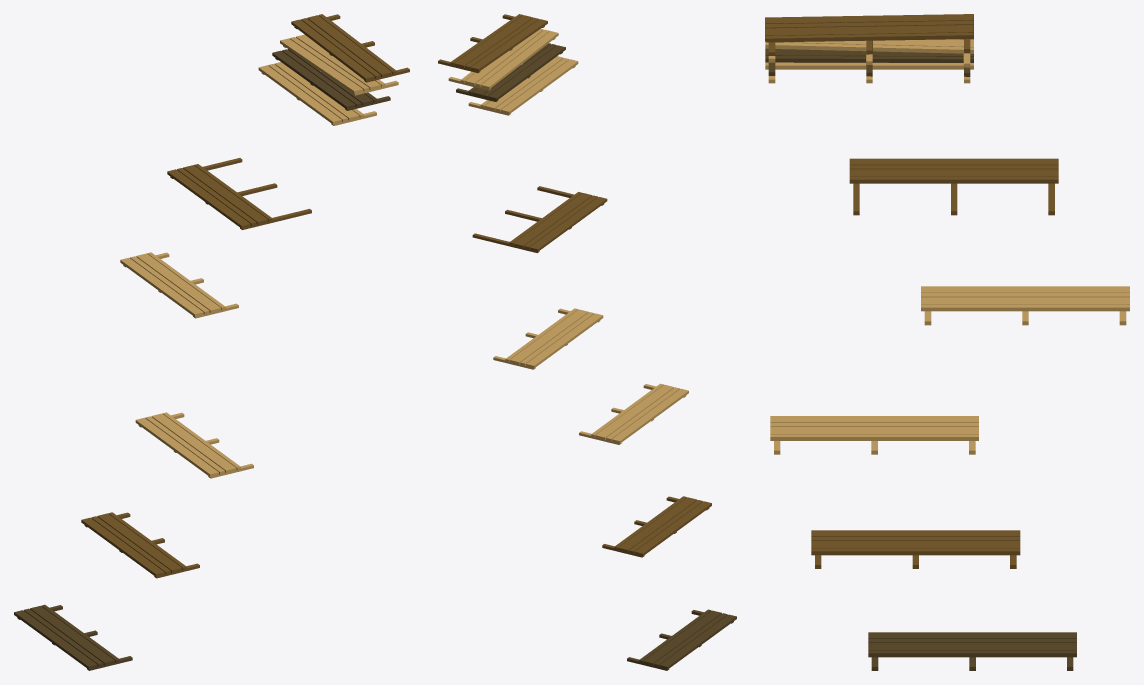
Rendered from platforms.obj.
3 renders of one model, left to right at view 1: azimuth 30°, elevation 25°; view 2: azimuth 150°, elevation 25°; view 3: azimuth 270°, elevation 25°, orthographic. The views are drawn at different scales.
Parts seen in each view (by area): view 1: Cube.006_Cube.007; view 2: Cube.006_Cube.007; view 3: Cube.006_Cube.007.
Part boxes in pixels (x1=…): Cube.006_Cube.007: x1=14, y1=14, x2=409, y2=670; Cube.006_Cube.007: x1=438, y1=14, x2=736, y2=670; Cube.006_Cube.007: x1=765, y1=14, x2=1129, y2=670.
Bounding box in the file's own units: 0.1599 × 0.3019 × 0.1263.
